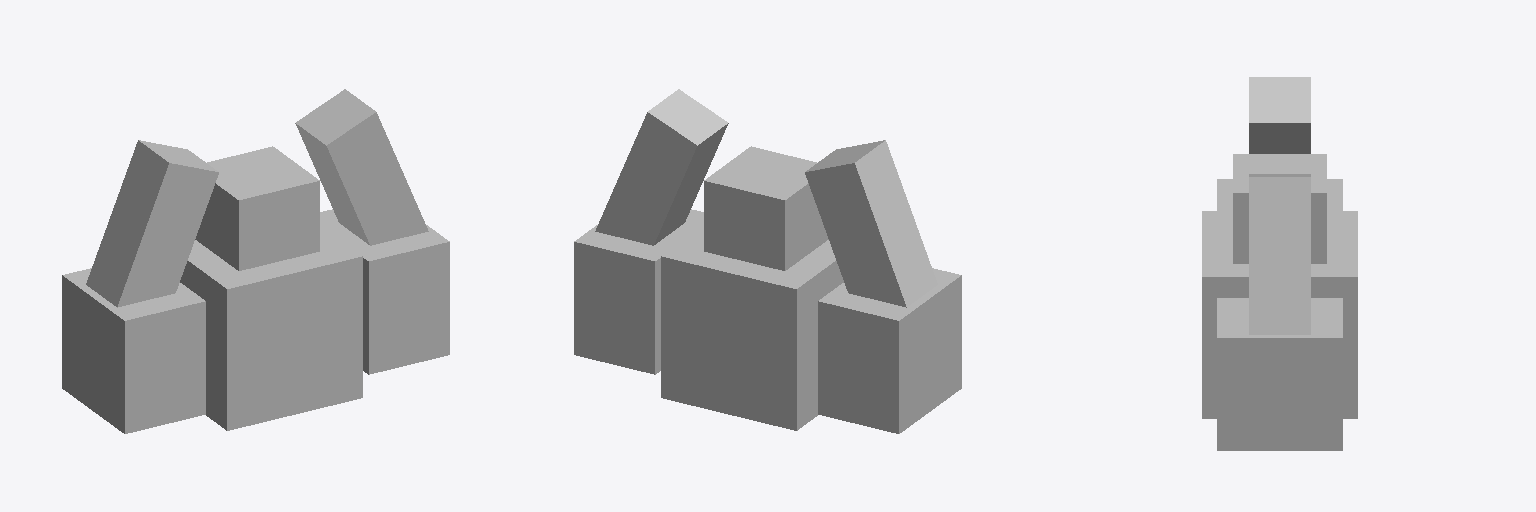
Rendered from singleaxle_frame.obj.
3 renders of one model, left to right at view 1: azimuth 30°, elevation 25°; view 2: azimuth 150°, elevation 25°; view 3: azimuth 270°, elevation 25°, orthographic.
Visible parts, largest first — view 1: cube1, cube2, cube3, cube5, cube6, cube4; view 2: cube1, cube2, cube3, cube5, cube6, cube4; view 3: cube5, cube1, cube4, cube3, cube6, cube2.
Boxes of the visible parts, x1=… form: cube1: x1=180, y1=225, x2=362, y2=430; cube2: x1=62, y1=268, x2=205, y2=433; cube3: x1=86, y1=140, x2=218, y2=307; cube5: x1=320, y1=209, x2=449, y2=374; cube6: x1=195, y1=146, x2=319, y2=270; cube4: x1=295, y1=89, x2=428, y2=245; cube1: x1=661, y1=225, x2=843, y2=430; cube2: x1=818, y1=268, x2=961, y2=433; cube3: x1=805, y1=140, x2=937, y2=307; cube5: x1=574, y1=209, x2=703, y2=374; cube6: x1=704, y1=146, x2=828, y2=270; cube4: x1=595, y1=89, x2=728, y2=245; cube5: x1=1217, y1=298, x2=1342, y2=450; cube1: x1=1202, y1=211, x2=1357, y2=418; cube4: x1=1249, y1=174, x2=1310, y2=334; cube3: x1=1249, y1=77, x2=1310, y2=153; cube6: x1=1233, y1=154, x2=1326, y2=263; cube2: x1=1217, y1=179, x2=1342, y2=210.
Size of the model in its own units: 1.5 by 1.15 by 0.625.